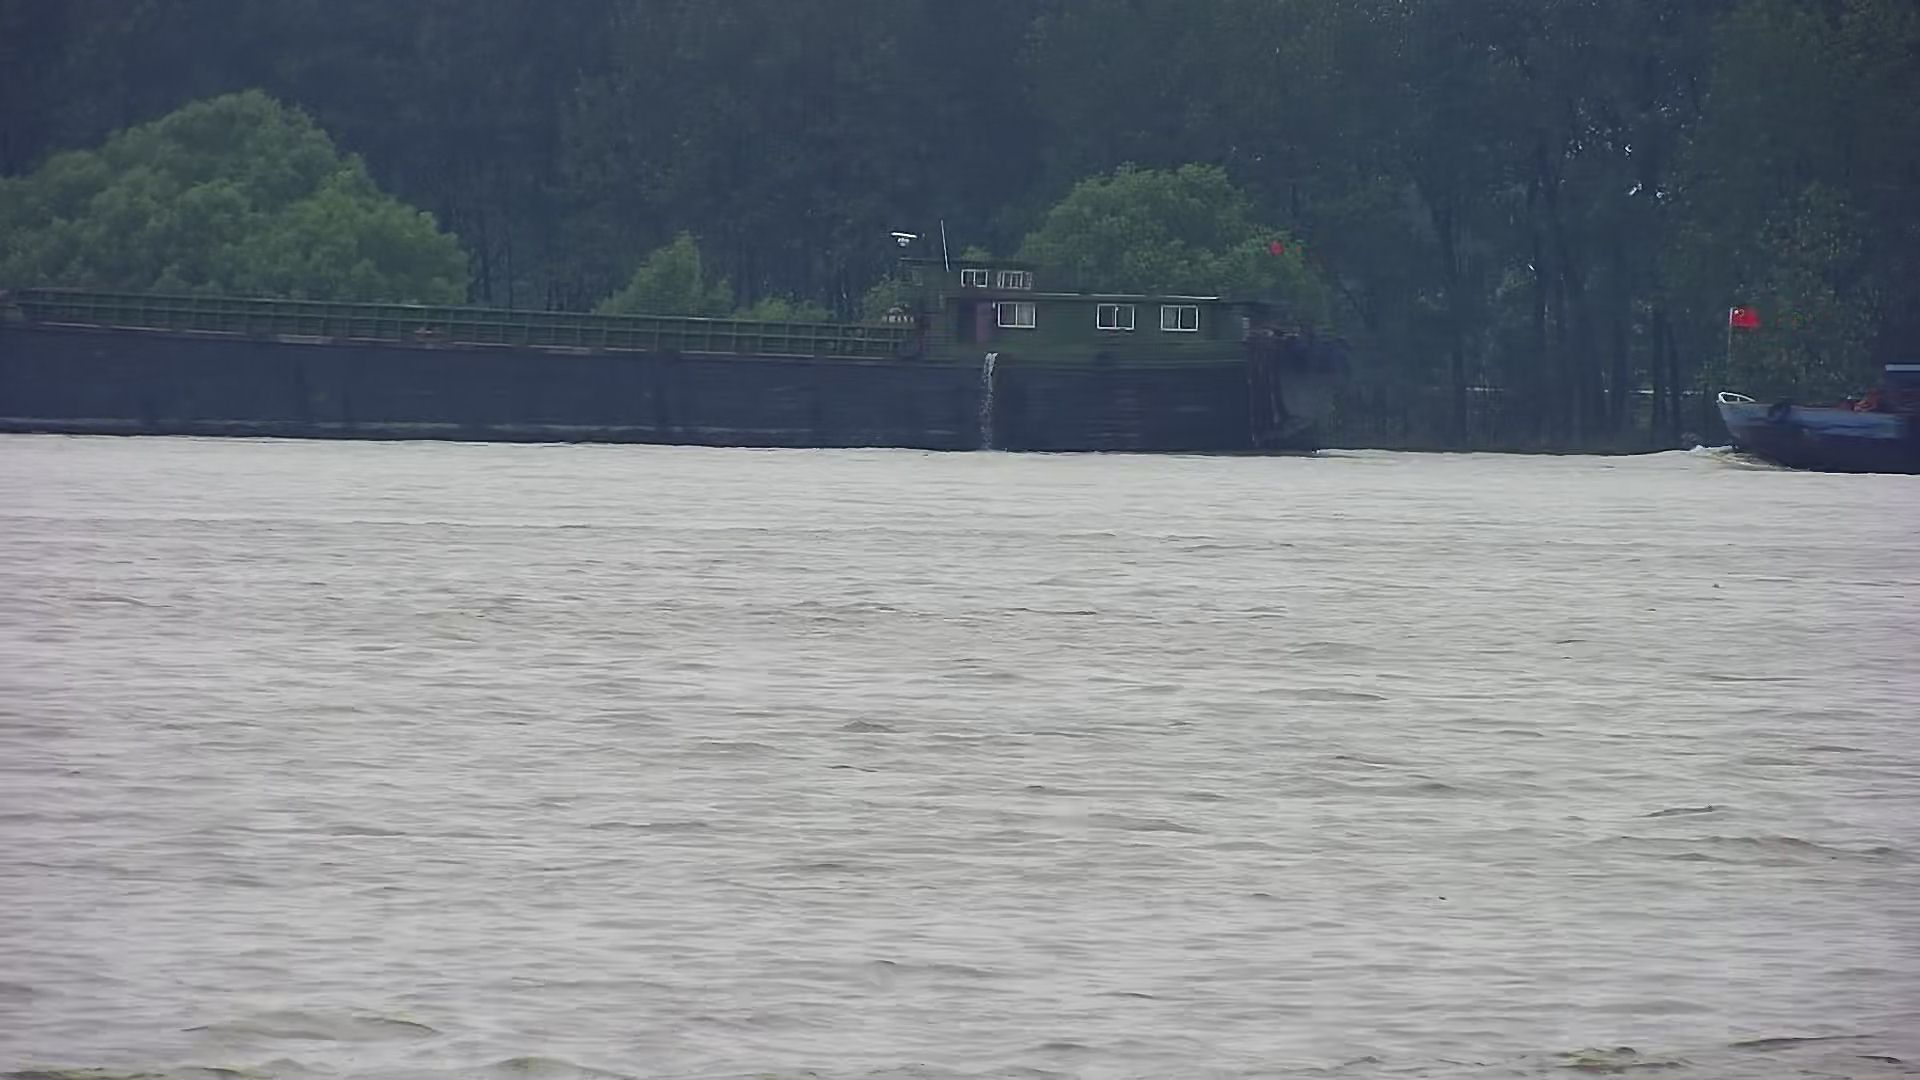ship: (1, 222, 1346, 467), (1721, 291, 1920, 481)
